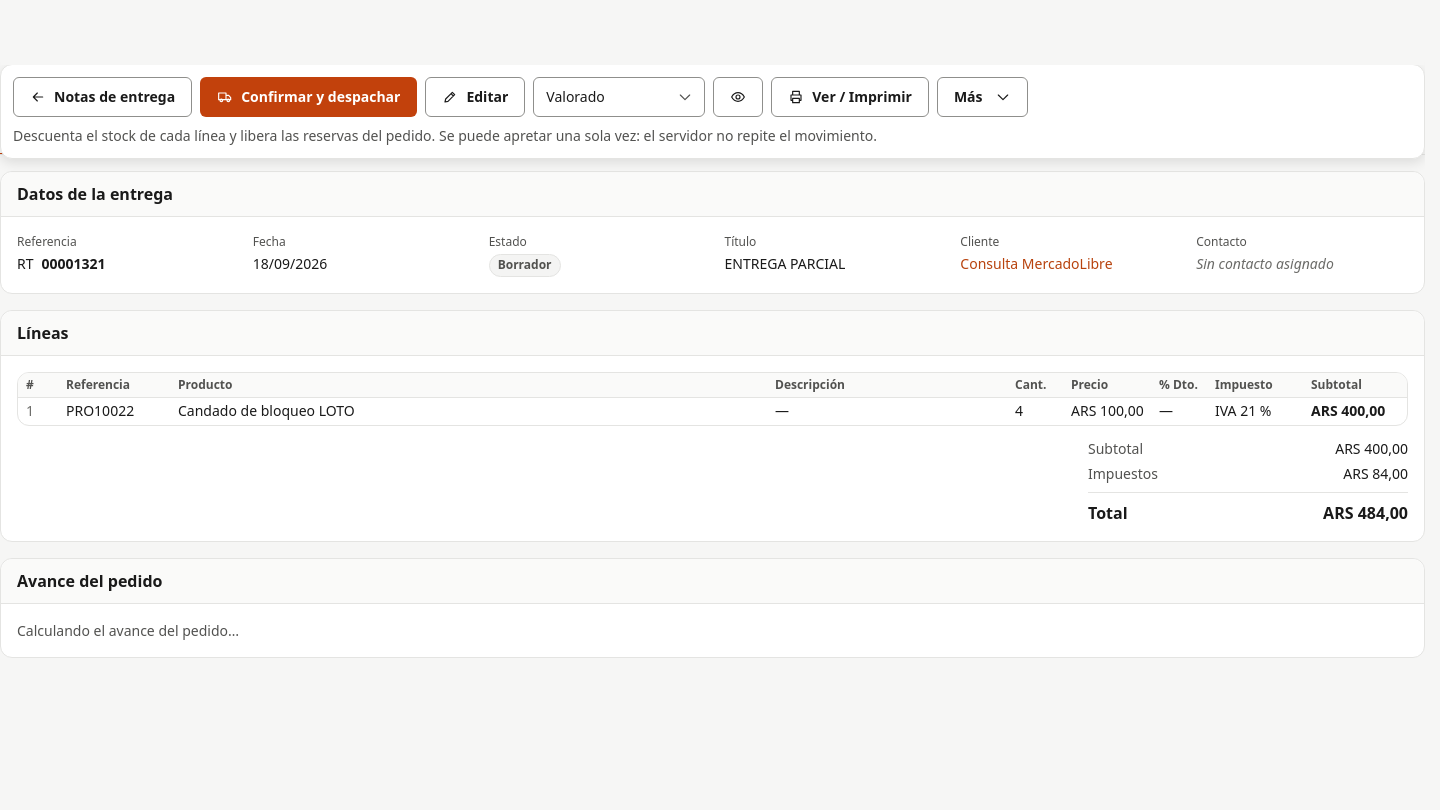
Test: Remito · edición del borrador › NO se escribe nada hasta apretar Guardar
Click the button "Editar".
click(475, 97)  # box x1=425 y1=77 x2=525 y2=117
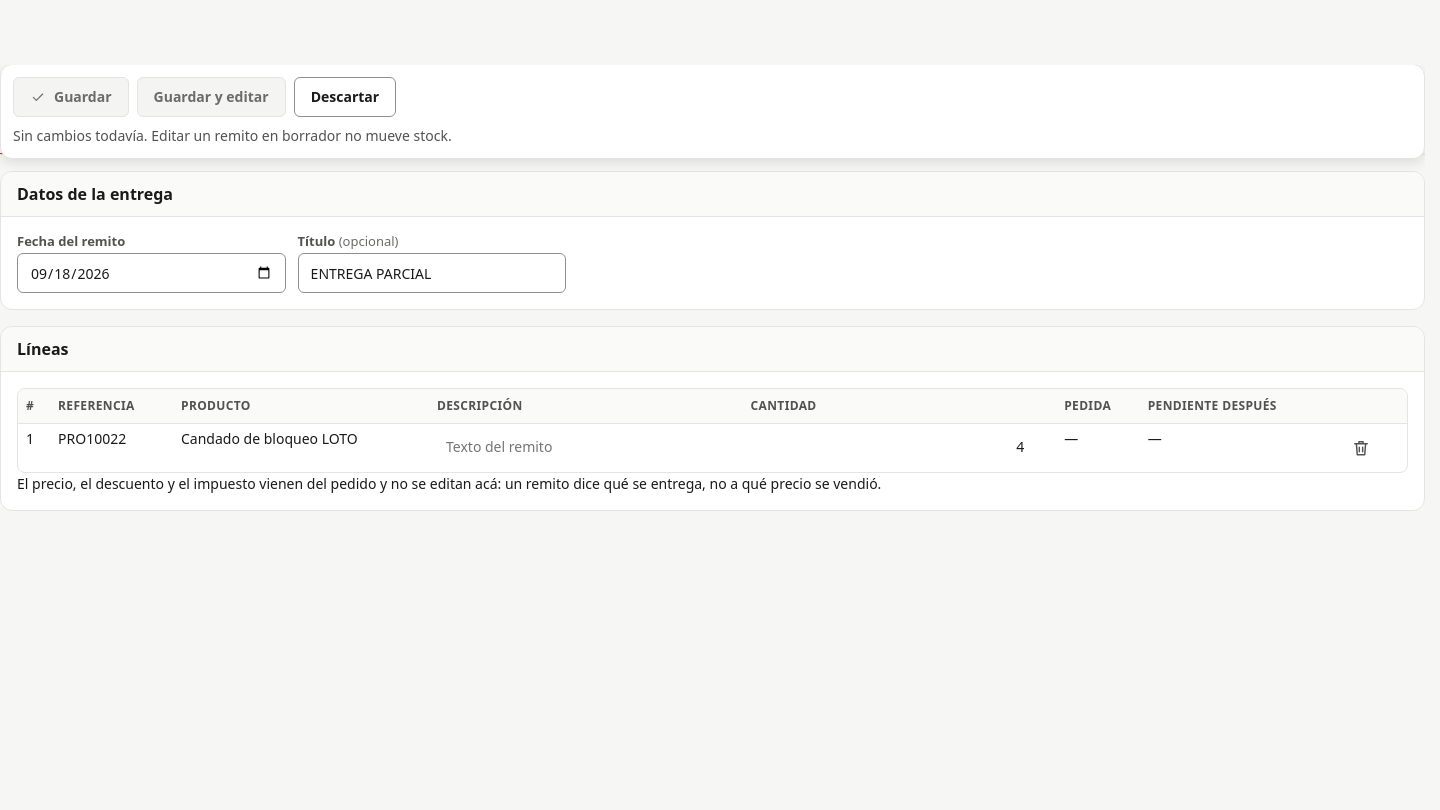
Replace the text in the number field named "Cantidad de PRO10022" with "6" at (899, 446), box x1=751 y1=428 x2=1048 y2=464
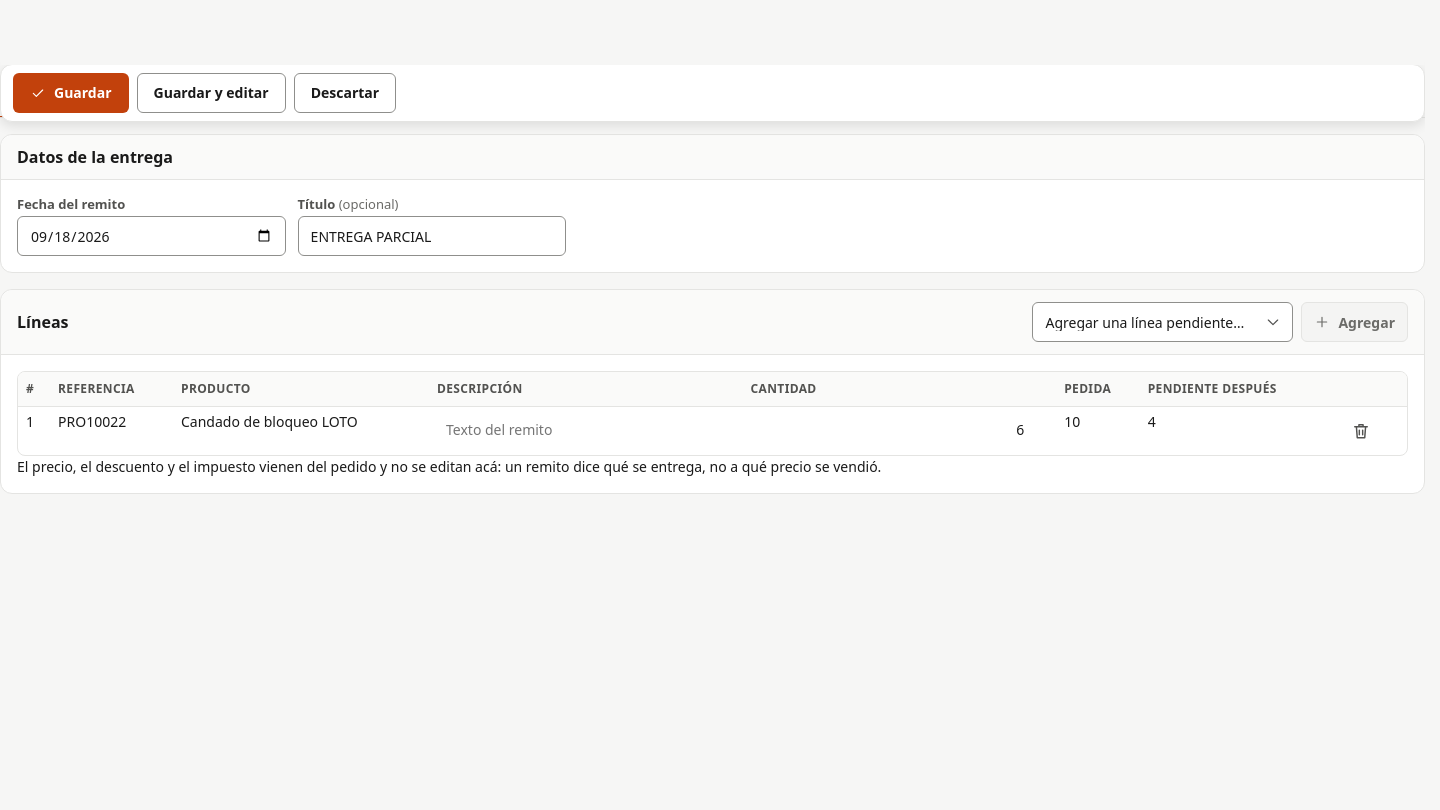
Now the button "Guardar" is enabled, box x1=13 y1=73 x2=128 y2=113
